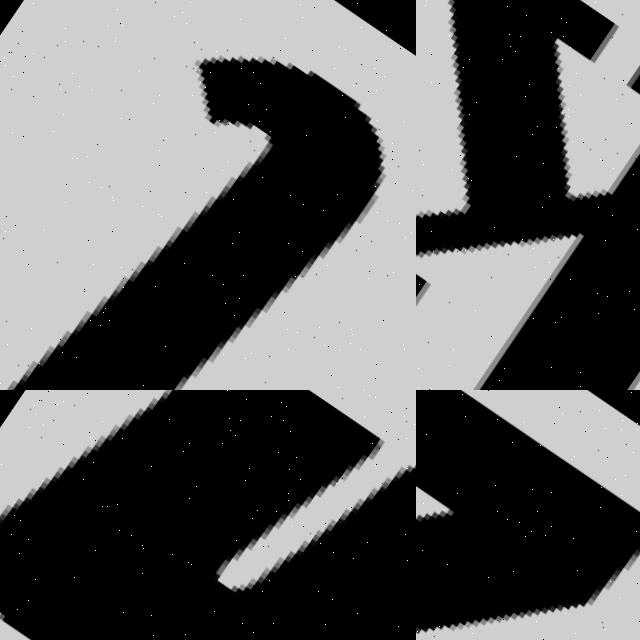H: (0, 390, 416, 640)
K: (416, 0, 640, 390)
L: (0, 0, 414, 390)
Z: (416, 390, 640, 640)
